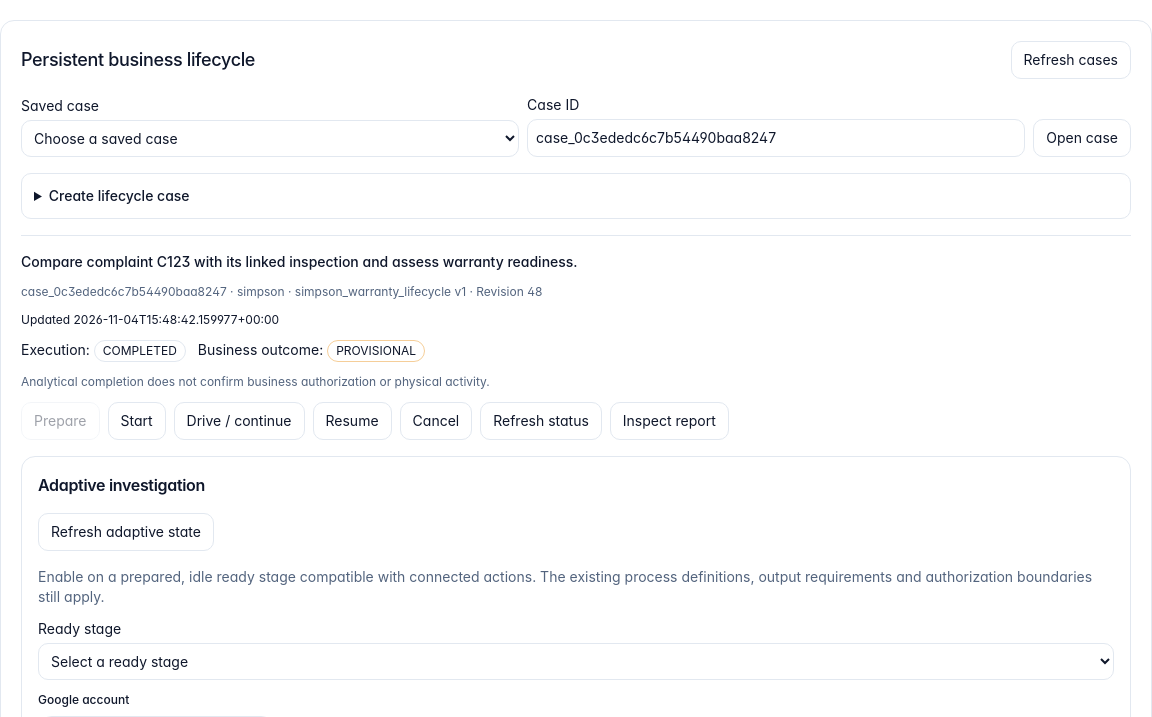
persistent lifecycle presentation › does not retry an uncertain drive automatically and explicitly reuses its exact key
Later steps or results of the test are not shown.
Step 1. Click the button "Drive / continue" → (239, 421), box [174, 402, 304, 440]
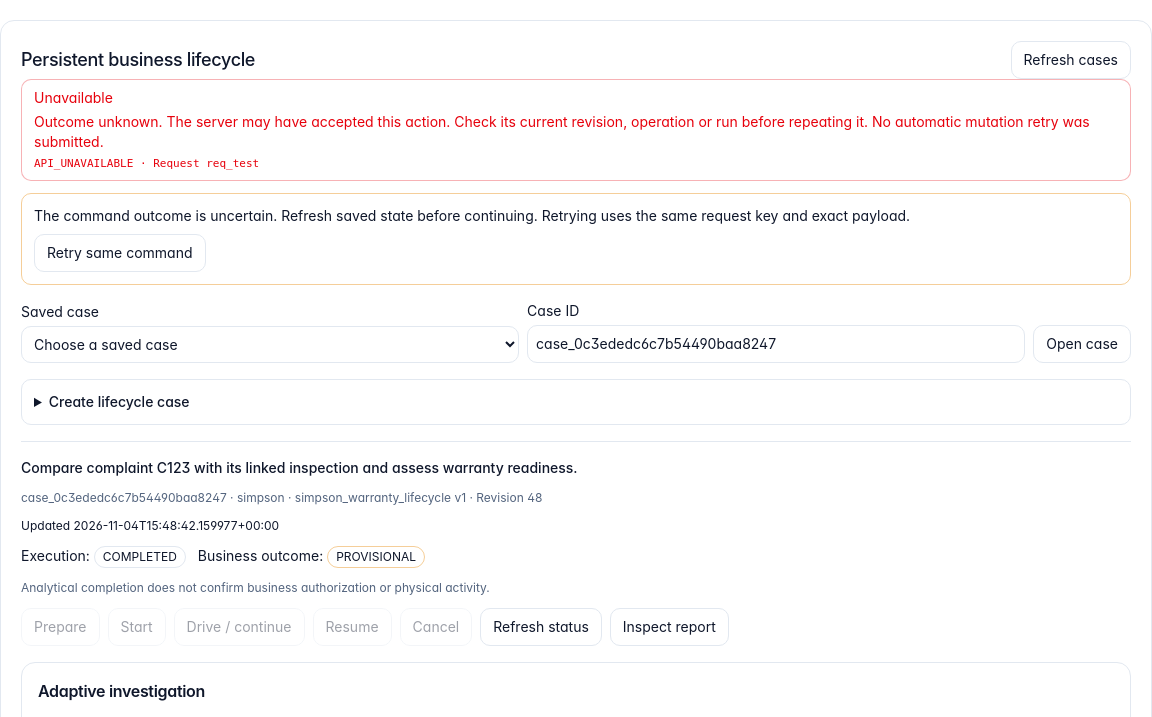
Now the button "Retry same command" is shown, box [34, 234, 206, 272]
